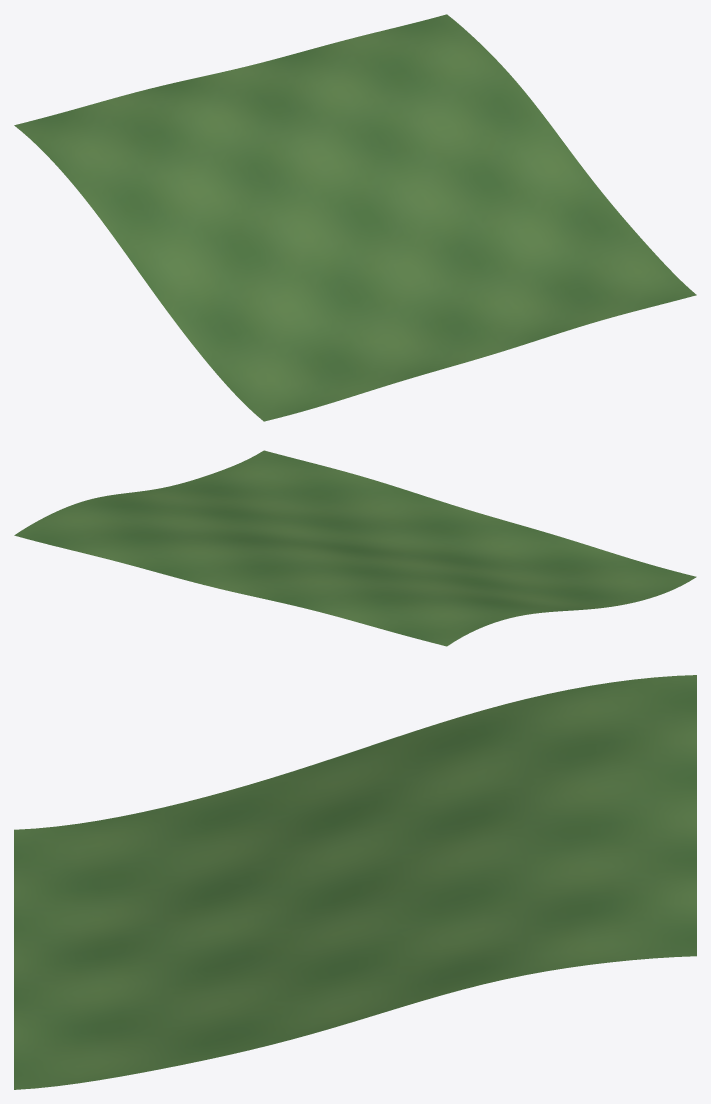
Rendered from chunk_9_0.glb.
3 renders of one model, top to bottom at view 1: azimuth 30°, elevation 25°; view 2: azimuth 150°, elevation 25°; view 3: azimuth 270°, elevation 25°, orthographic. The views are drawn at different scales.
Bounding box in the file's own units: 512 × 134 × 512.
